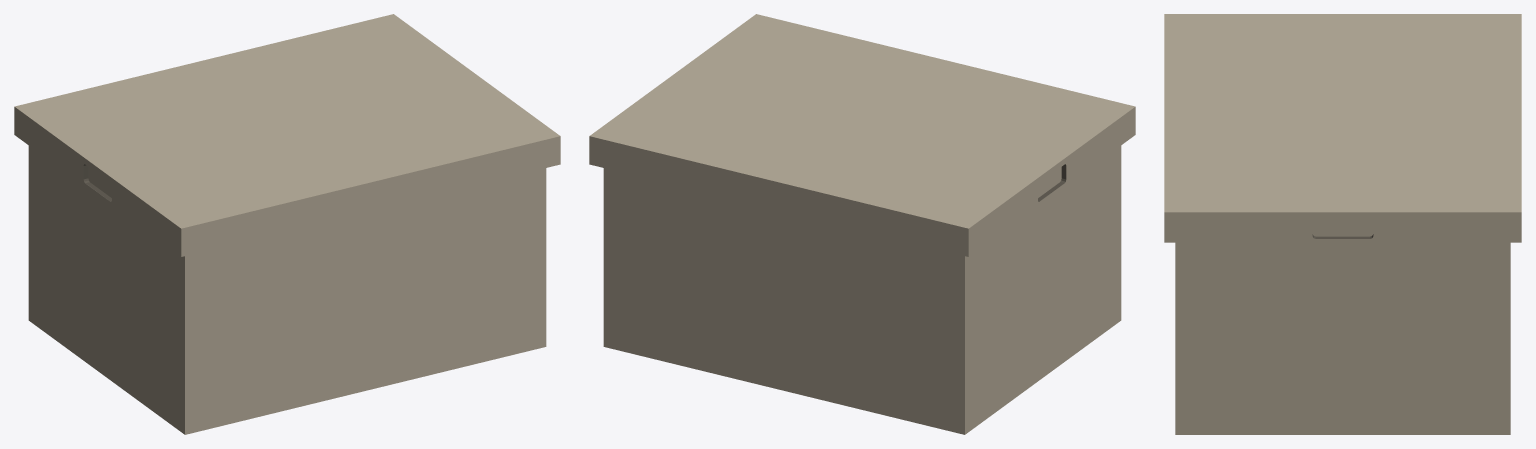
The model's file is Box_Bege.fbx.
3 views of the same model, side by side, from view 1: azimuth 30°, elevation 25°; view 2: azimuth 150°, elevation 25°; view 3: azimuth 270°, elevation 25° (orthographic). The views are drawn at different scales.
Visible parts, largest first — view 1: Box; view 2: Box; view 3: Box.
Boxes of the visible parts, bbox=[...] form: Box: bbox=[14, 14, 560, 434]; Box: bbox=[589, 14, 1135, 434]; Box: bbox=[1164, 14, 1521, 434].
Size of the model in its own units: 42 by 22.46 by 32.
